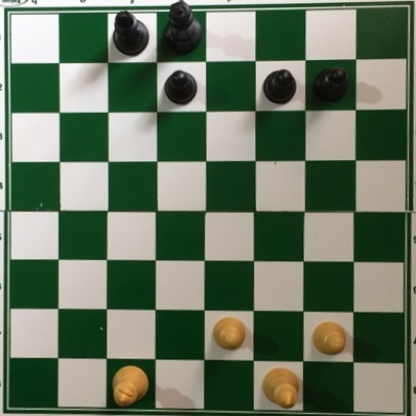black-bishop: (112, 10, 150, 57)
black-pawn: (261, 67, 297, 105), (161, 69, 197, 105), (314, 67, 349, 102)
black-queen: (160, 1, 203, 56)
white-bishop: (261, 365, 301, 413), (112, 361, 148, 413)
white-pawn: (310, 319, 348, 356), (212, 315, 246, 353)
